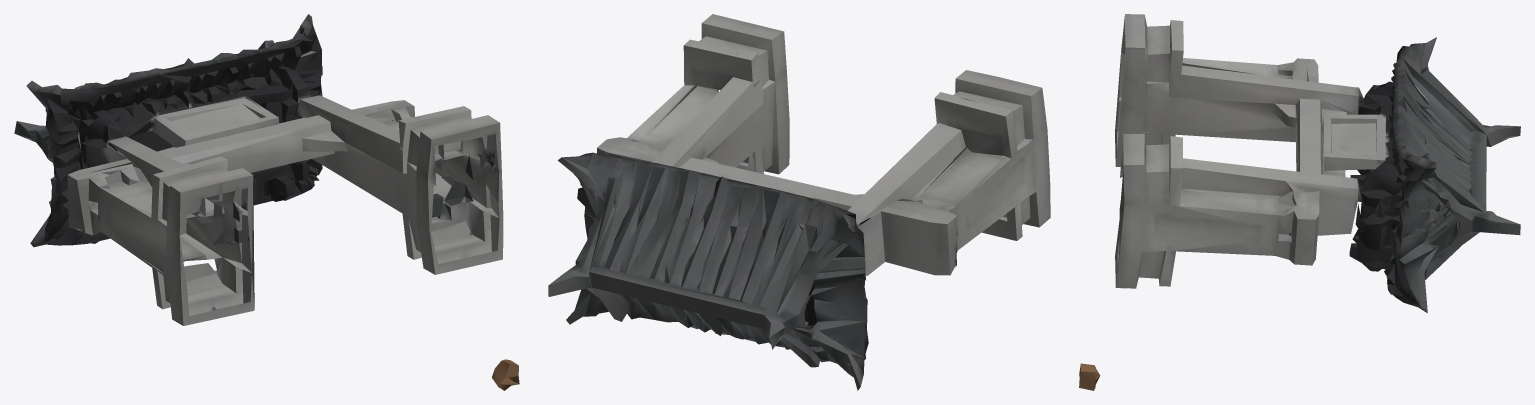
The model's file is 寺廟牌坊.glb.
3 views of the same model, side by side, from view 1: azimuth 30°, elevation 25°; view 2: azimuth 150°, elevation 25°; view 3: azimuth 270°, elevation 25° (orthographic). The views are drawn at different scales.
Visible parts, largest first — view 1: geometry_0; view 2: geometry_0; view 3: geometry_0.
Boxes of the visible parts, box(x1,y1,x2,y2) form: geometry_0: box(14, 14, 519, 390); geometry_0: box(548, 14, 1050, 390); geometry_0: box(1079, 14, 1520, 390).
Size of the model in its own units: 0.8066 by 0.5839 by 0.9831.
1 material, 1 textured.
